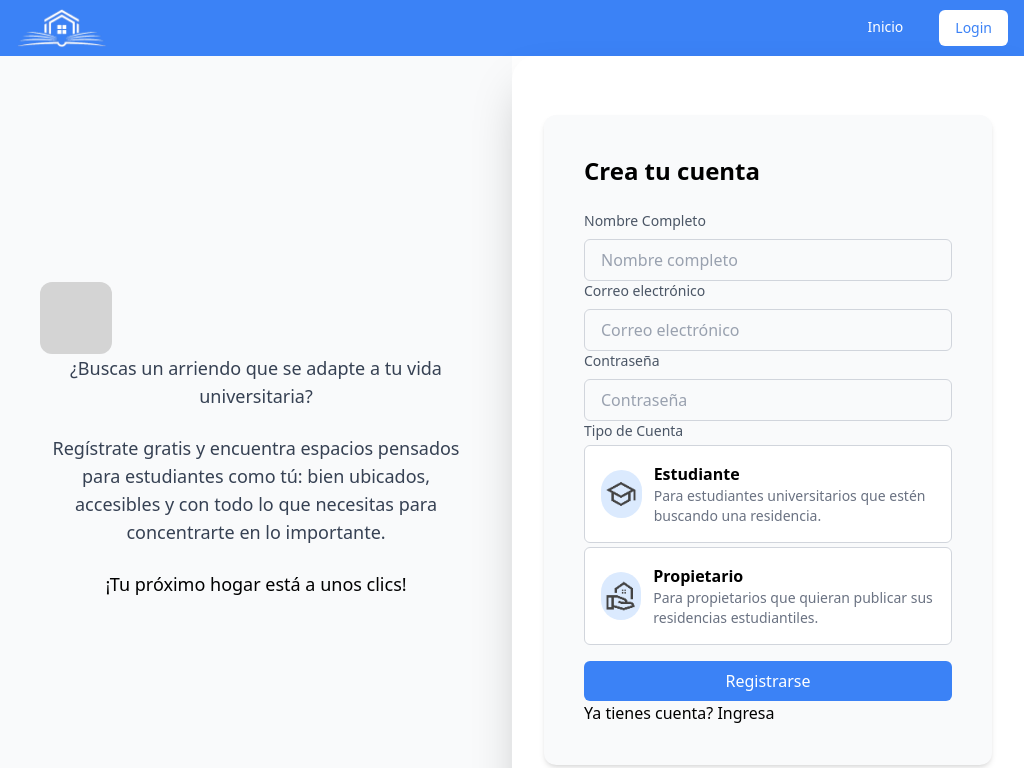
it: SignupForm Interactions › should display a network error message if the server is unreachable
The width and height of the screenshot is (1024, 768).
Step 1. Type "Test User" into the field named "name" → (768, 260), box 584,239 -> 952,281
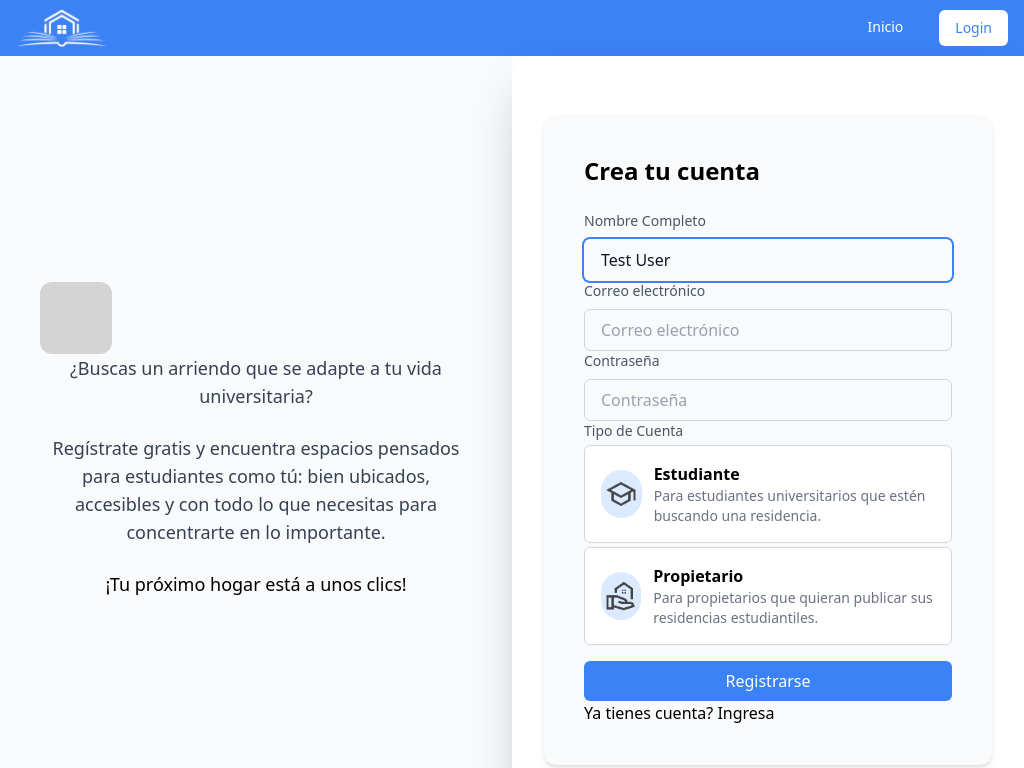
Step 2. Type "test@example.com" into the field named "email" → (768, 330), box 584,309 -> 952,351
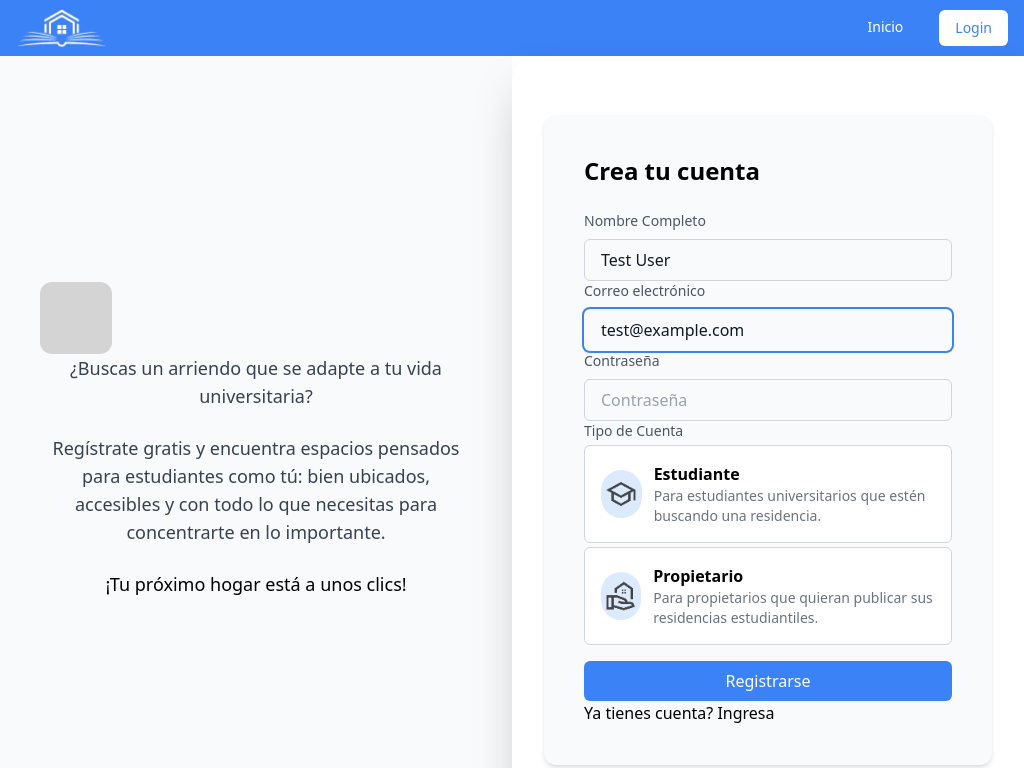
Step 3. Type "password123" into the password field named "password" → (768, 400), box 584,379 -> 952,421
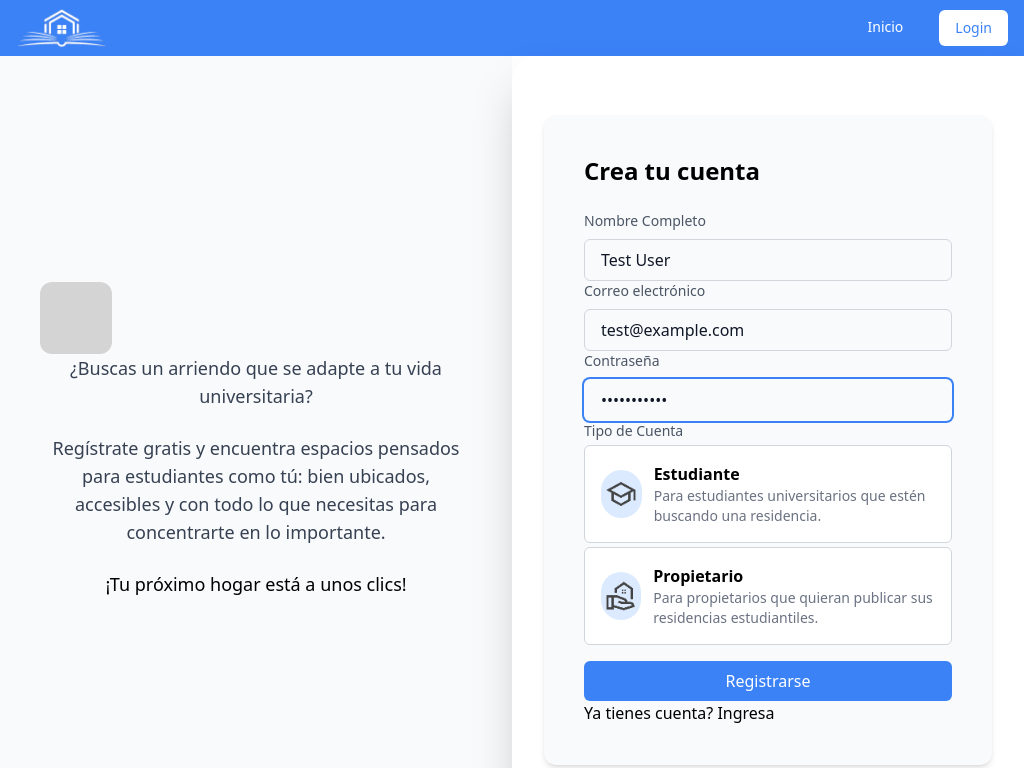
Step 4. Click the button "Estudiante" → (768, 494), box 584,445 -> 952,543
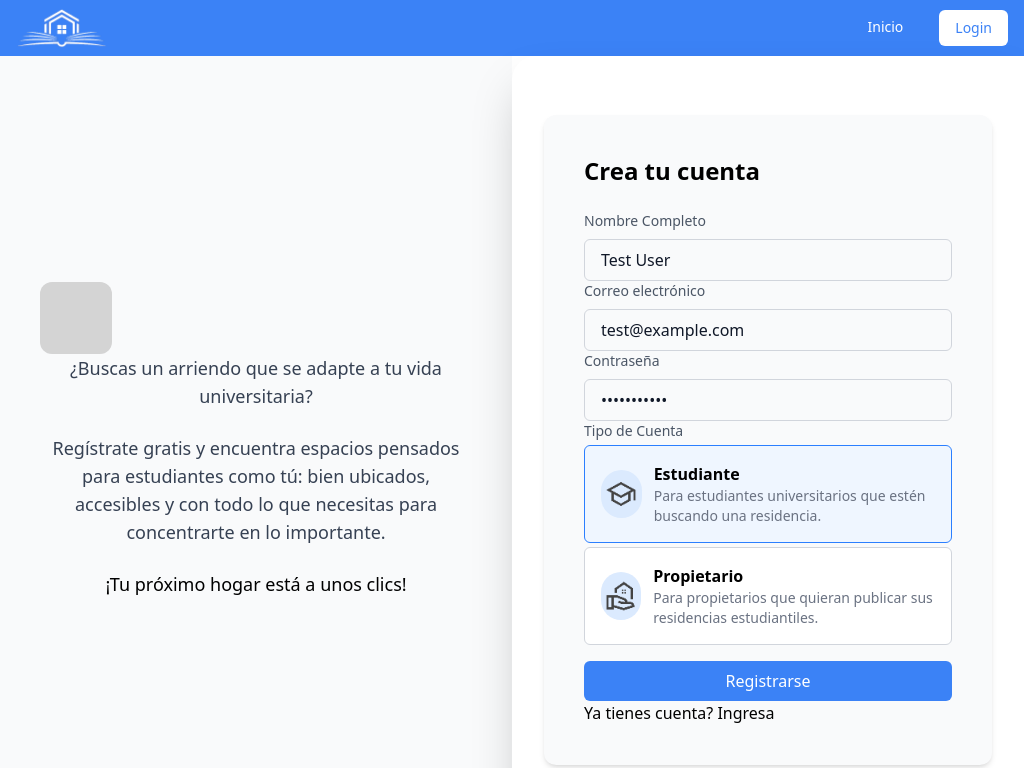
Step 5. Submit the form, box 584,211 -> 952,701
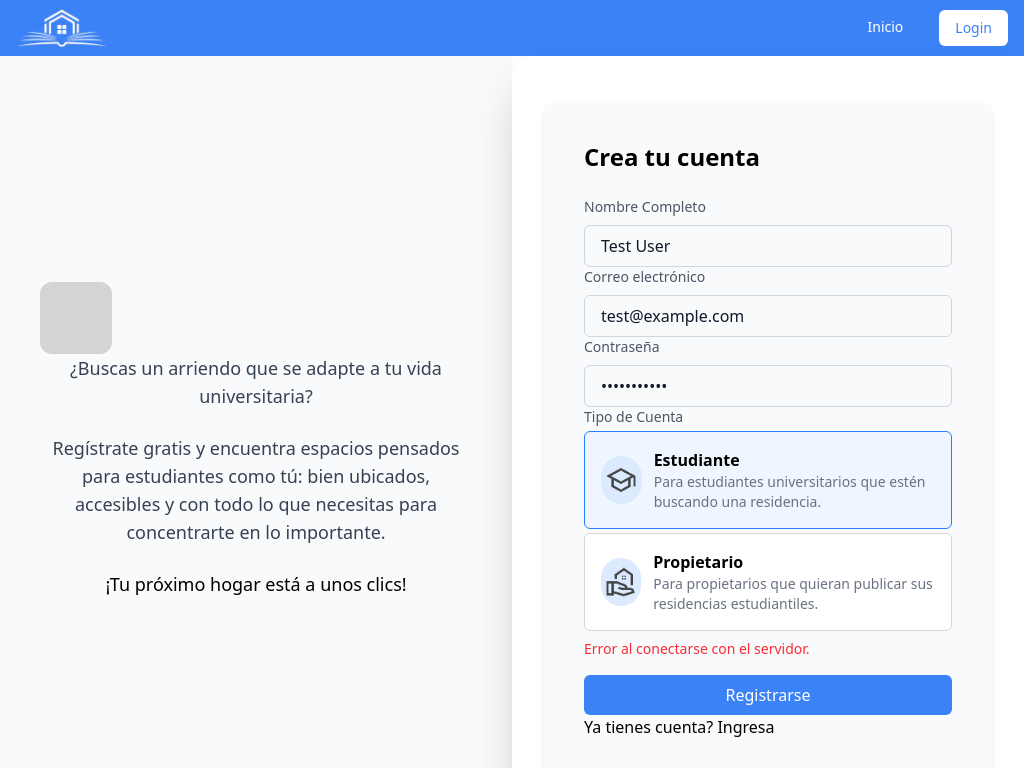
Check: the text "Error al conectarse con el servidor." is shown, box 584,639 -> 810,658
